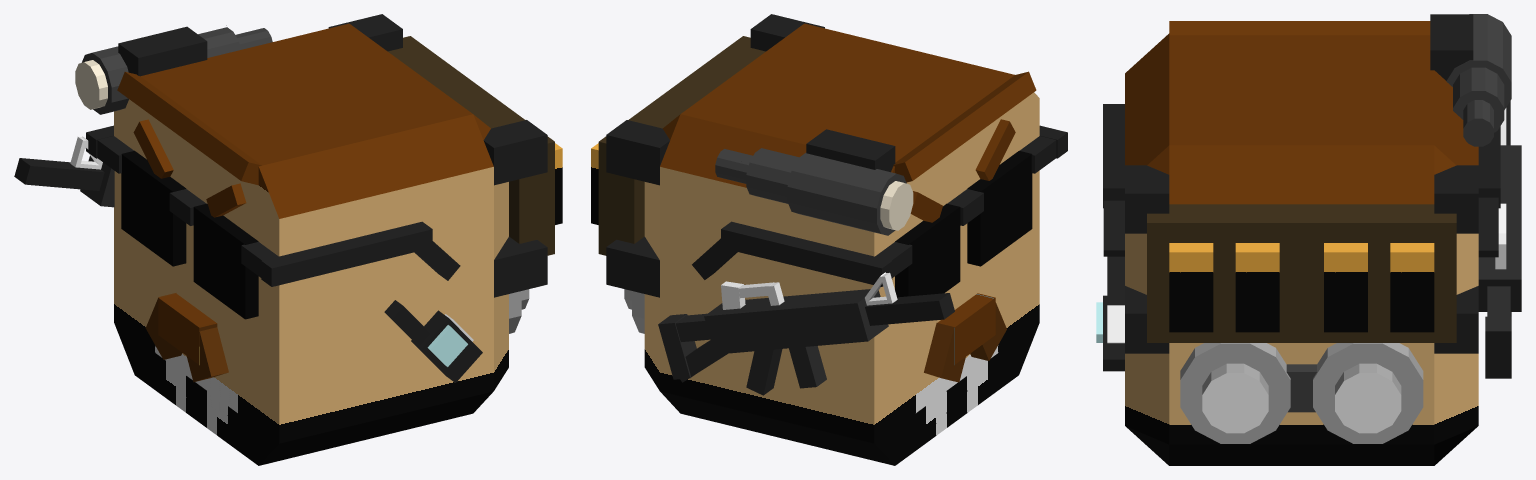
The model's file is playerShootingar.gltf.
3 views of the same model, side by side, from view 1: azimuth 30°, elevation 25°; view 2: azimuth 150°, elevation 25°; view 3: azimuth 270°, elevation 25° (orthographic). The views are drawn at different scales.
Visible parts, largest first — view 1: beveled_cuboid (×2); view 2: beveled_cuboid (×2); view 3: beveled_cuboid (×2).
Boxes of the visible parts, x1=… form: beveled_cuboid (×2): x1=14, y1=14, x2=562, y2=465; beveled_cuboid (×2): x1=591, y1=14, x2=1067, y2=465; beveled_cuboid (×2): x1=1096, y1=14, x2=1521, y2=465.
Size of the model in its own units: 1.36 by 1.06 by 1.2.
Materials: 4 (4 with a texture image).
